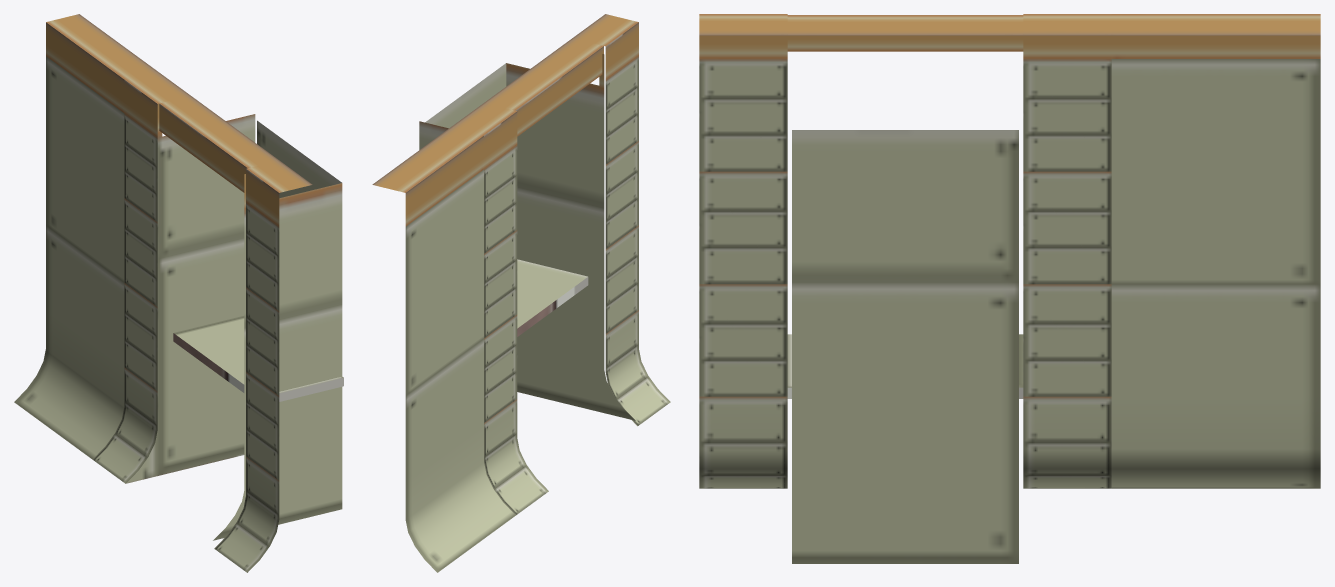
The model's file is SM_WallTerminal.fbx.
3 views of the same model, side by side, from view 1: azimuth 30°, elevation 25°; view 2: azimuth 150°, elevation 25°; view 3: azimuth 270°, elevation 25° (orthographic). The views are drawn at different scales.
Parts seen in each view (by area): view 1: pCube30_DUP1; view 2: pCube30_DUP1; view 3: pCube30_DUP1.
Part boxes in pixels (box(x1,y1,x2,y2)): pCube30_DUP1: box(14, 14, 343, 572); pCube30_DUP1: box(372, 14, 670, 572); pCube30_DUP1: box(699, 14, 1320, 563).
Bounding box in the file's own units: 80.29 × 220 × 250.
